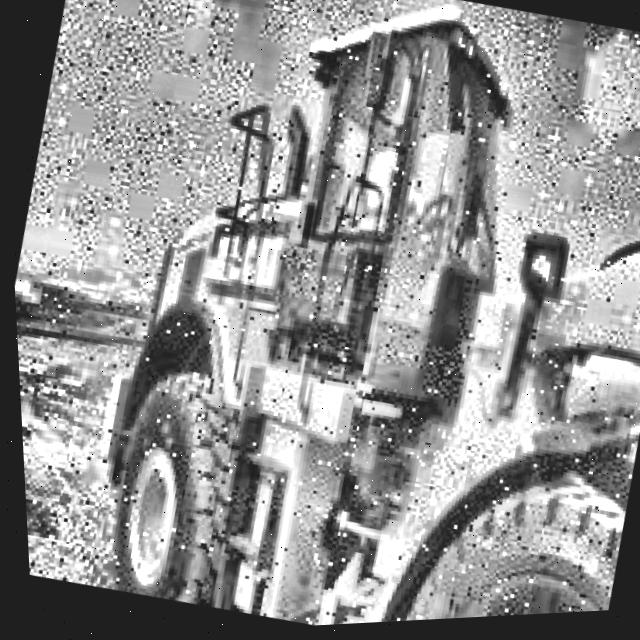buldozerpayloadergrader: (1, 0, 640, 640)
